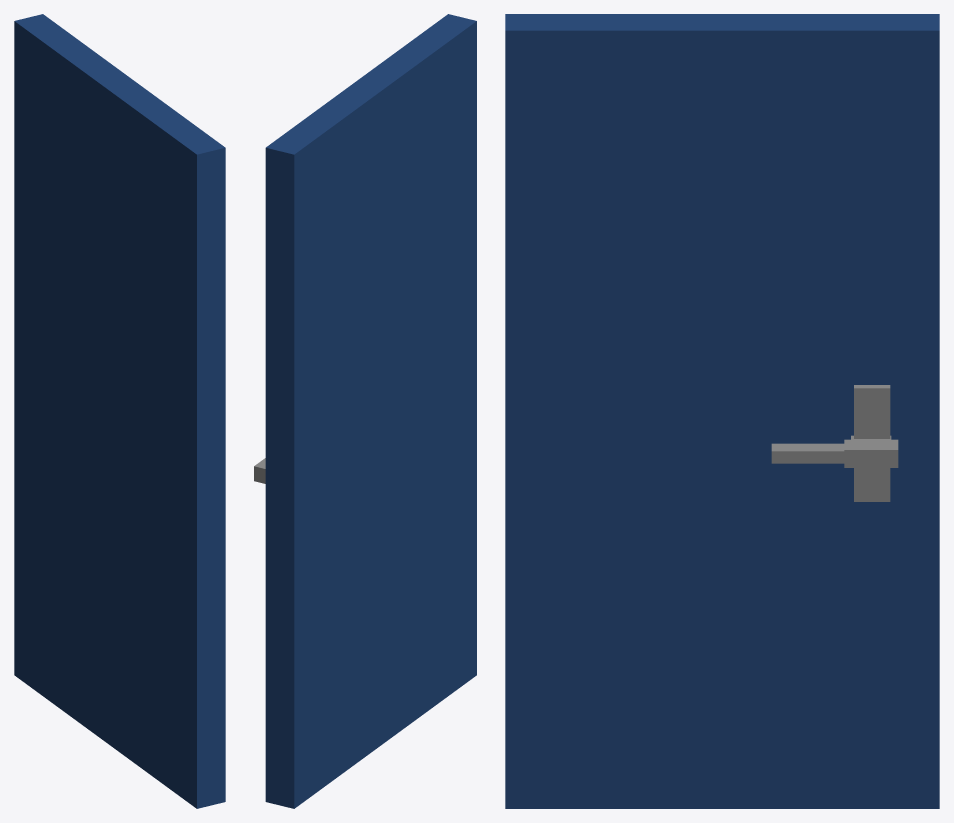
The model's file is Porta.fbx.
3 views of the same model, side by side, from view 1: azimuth 30°, elevation 25°; view 2: azimuth 150°, elevation 25°; view 3: azimuth 270°, elevation 25° (orthographic). The views are drawn at different scales.
Parts seen in each view (by area): view 1: Cubo.003; view 2: Cubo.003; view 3: Cubo.003.
Part boxes in pixels (box(x1,y1,x2,y2)): Cubo.003: box(14, 14, 225, 808); Cubo.003: box(254, 14, 476, 808); Cubo.003: box(505, 14, 939, 808).
Bounding box in the file's own units: 36.5 × 395 × 200.
